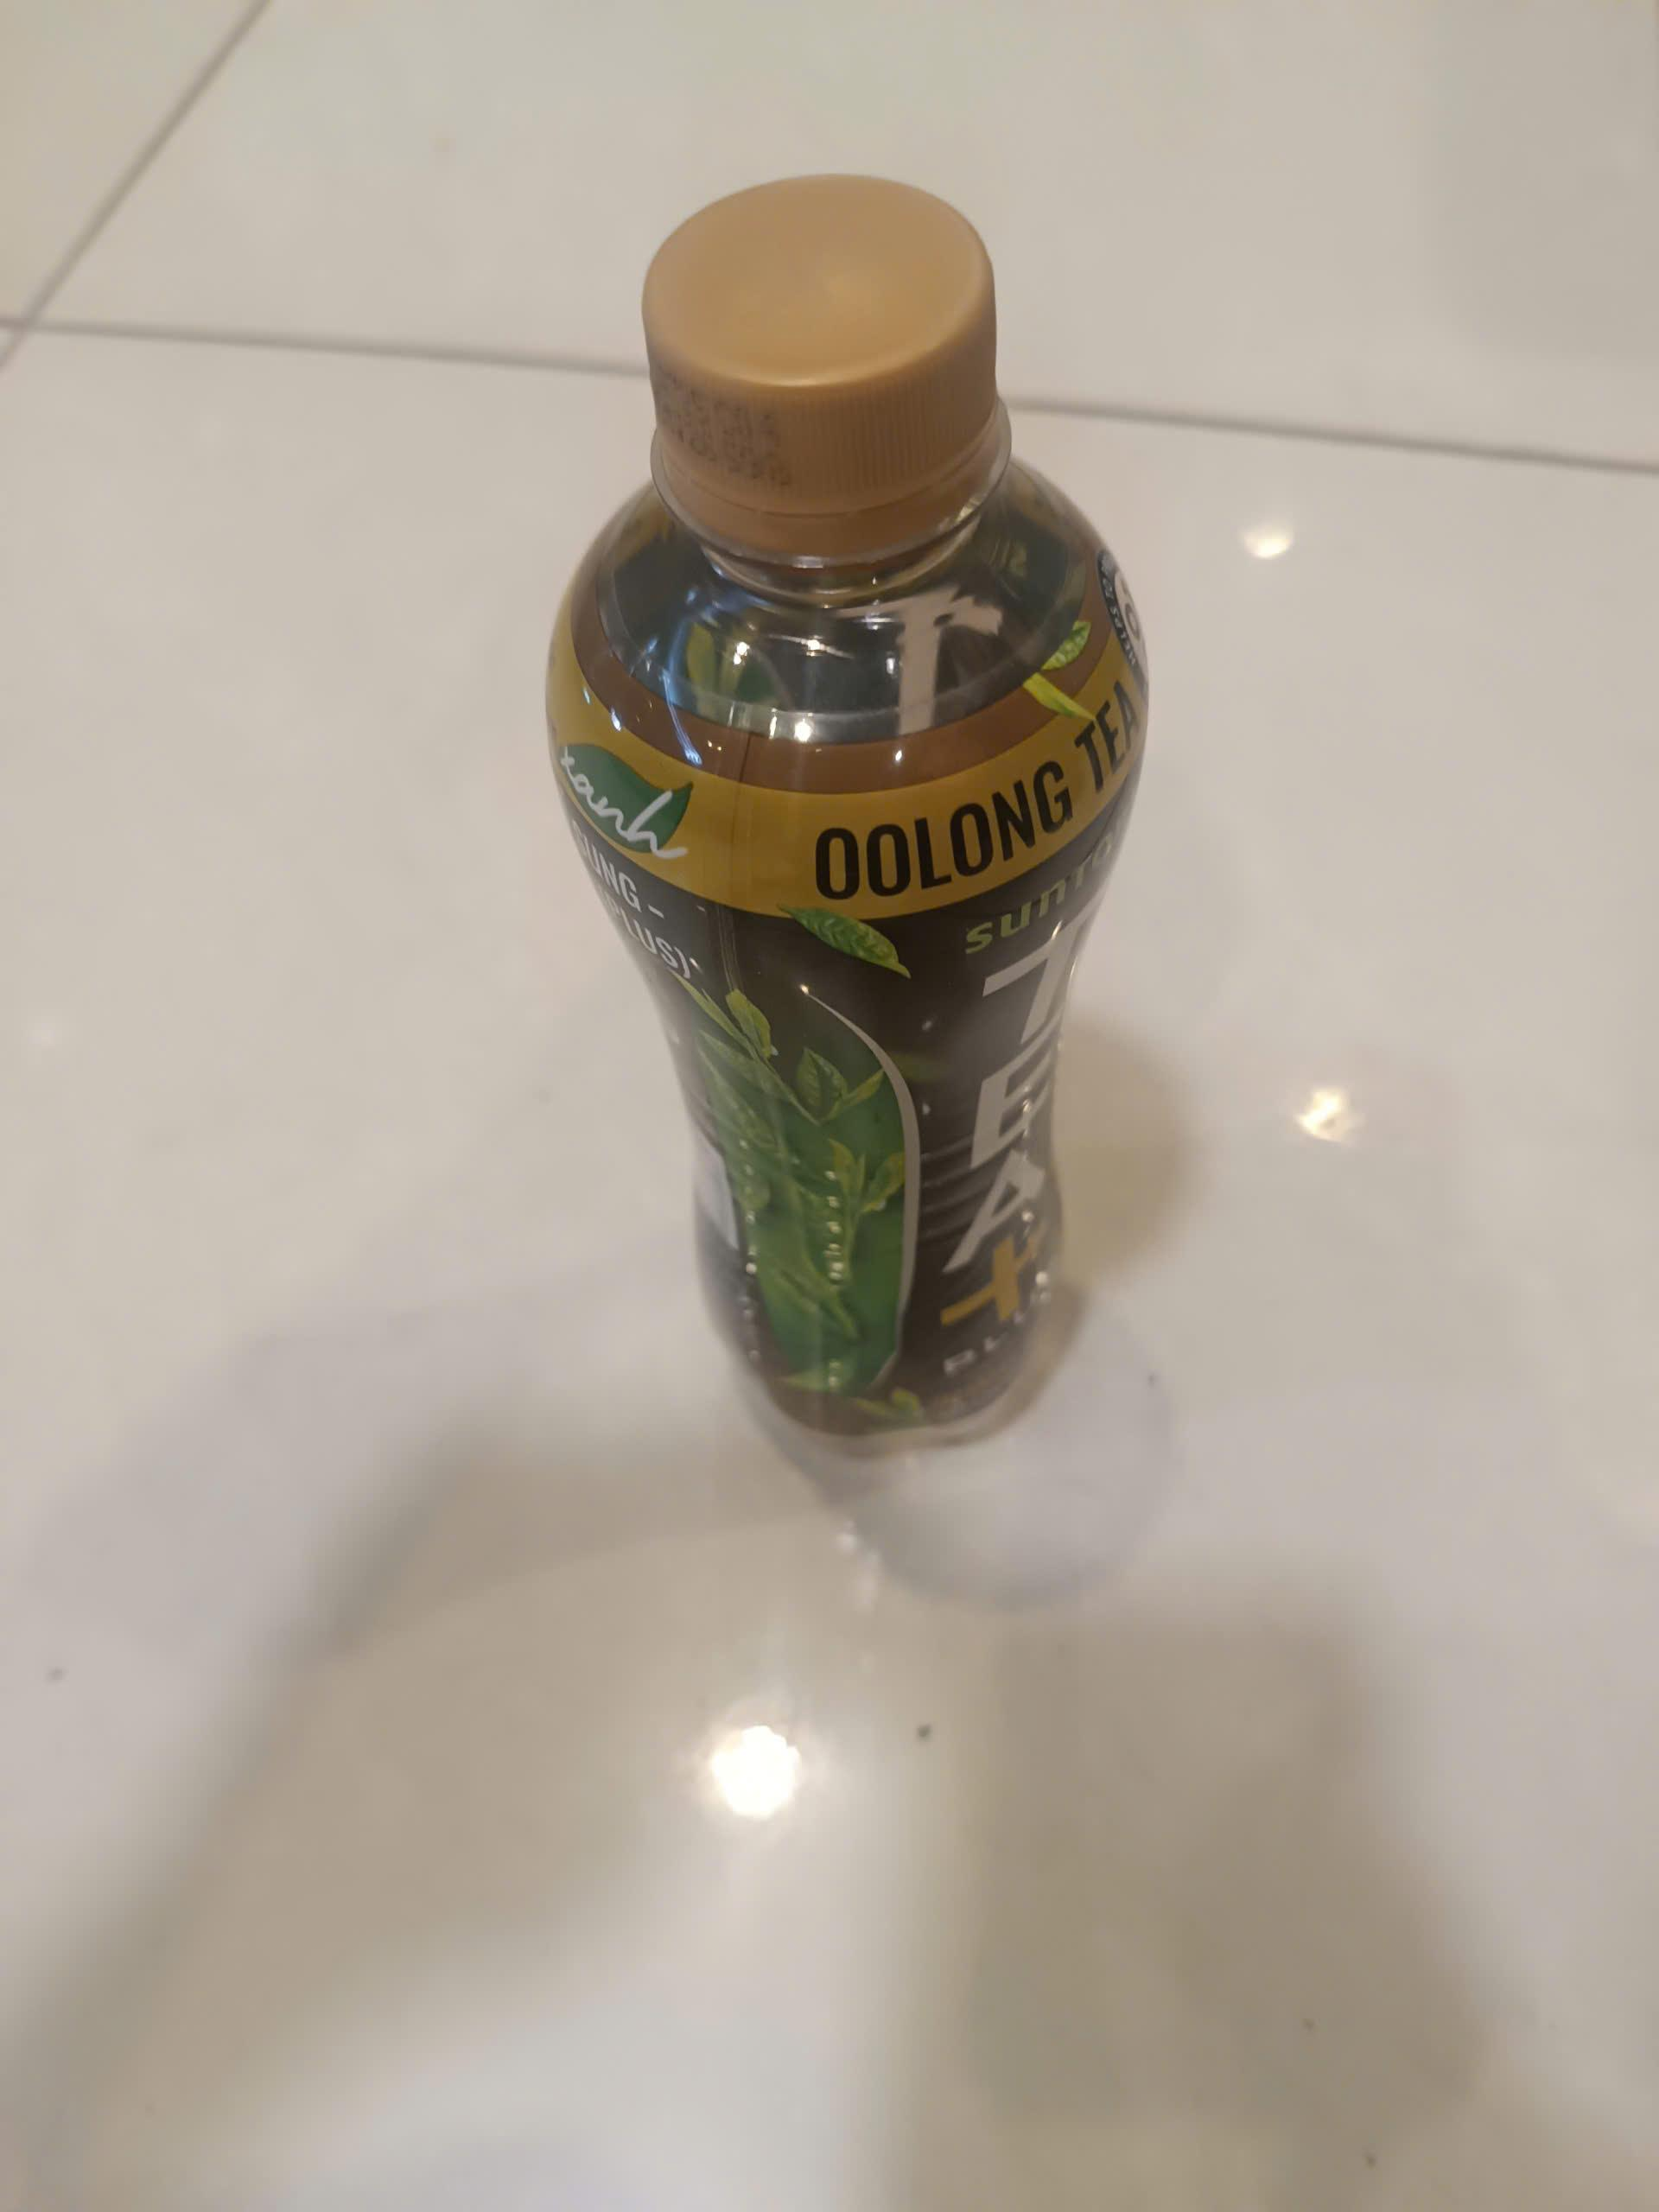Vo co: (544, 174, 1150, 1456)
